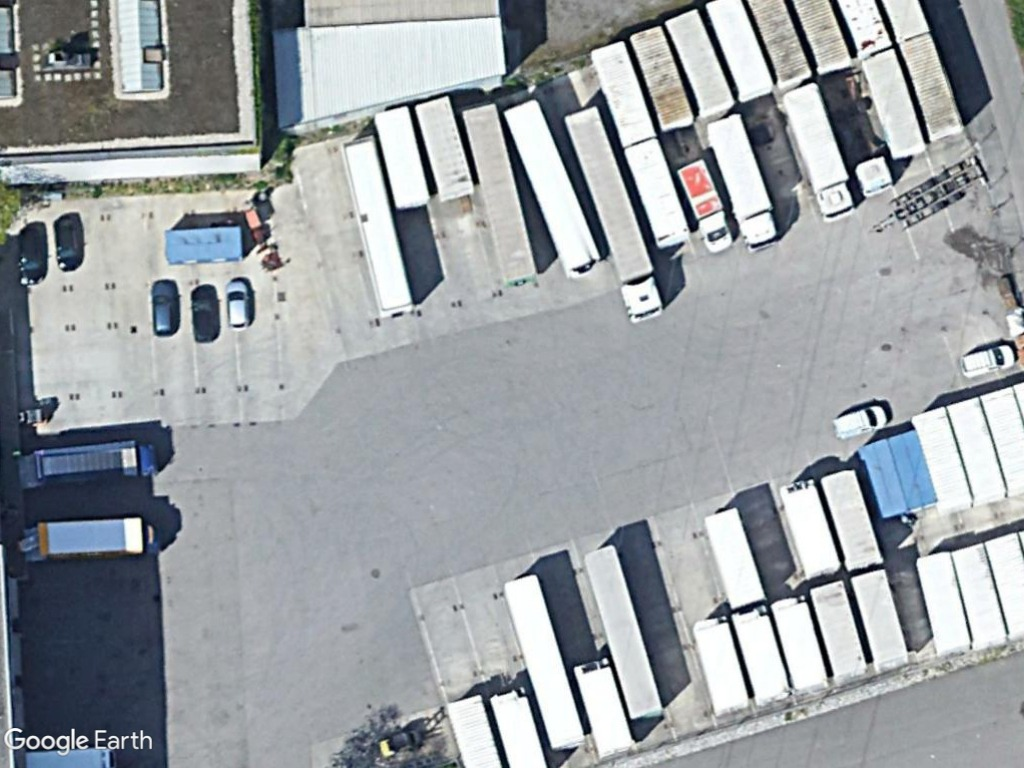car: (954, 337, 1024, 384), (188, 283, 223, 350), (16, 225, 48, 292), (148, 276, 183, 337), (49, 216, 86, 272), (224, 277, 255, 336)
truck: (560, 106, 671, 330), (779, 84, 860, 224), (708, 112, 780, 254), (24, 435, 163, 489), (32, 515, 163, 563), (674, 160, 733, 254)
van: (827, 400, 890, 444)
